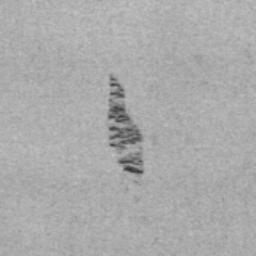Secondary rust skin: (108, 75, 144, 173)
